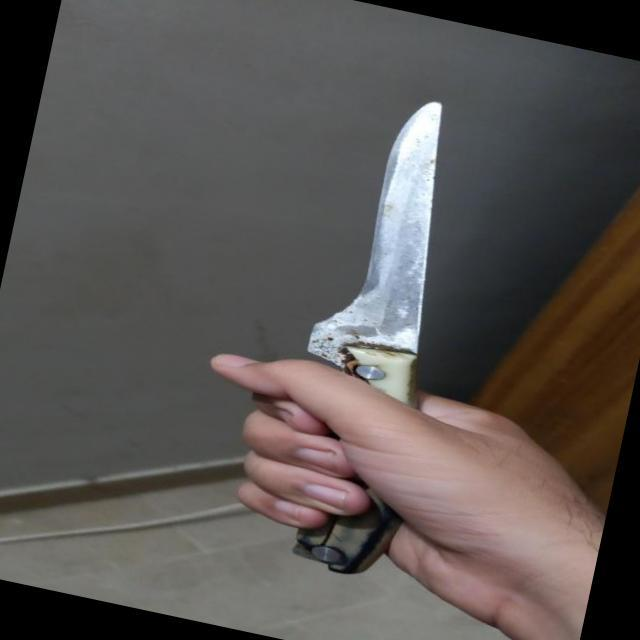Knife: (241, 74, 554, 615)
